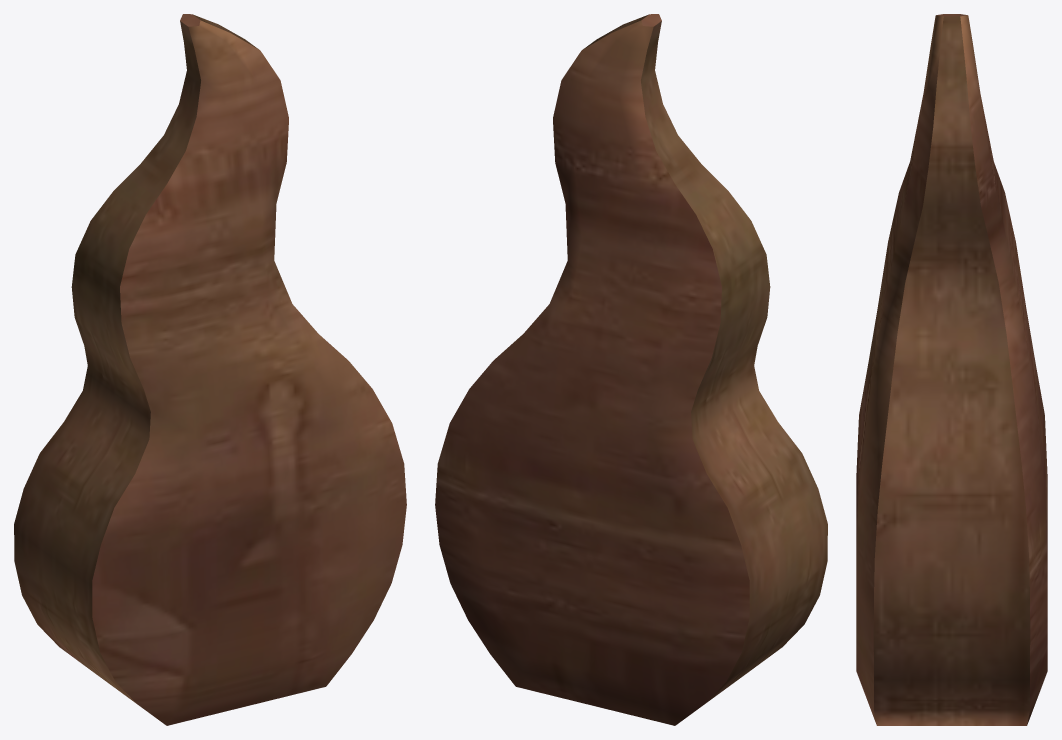
3 views of the same model, side by side, from view 1: azimuth 30°, elevation 25°; view 2: azimuth 150°, elevation 25°; view 3: azimuth 270°, elevation 25° (orthographic).
Parts seen in each view (by area): view 1: SM_GothicAltar01_LOD0; view 2: SM_GothicAltar01_LOD0; view 3: SM_GothicAltar01_LOD0.
Part boxes in pixels (box(x1,y1,x2,y2)): SM_GothicAltar01_LOD0: box(14, 14, 406, 725); SM_GothicAltar01_LOD0: box(435, 14, 827, 725); SM_GothicAltar01_LOD0: box(856, 14, 1047, 725).
Size of the model in its own units: 0.4801 by 0.9693 by 0.2531.
